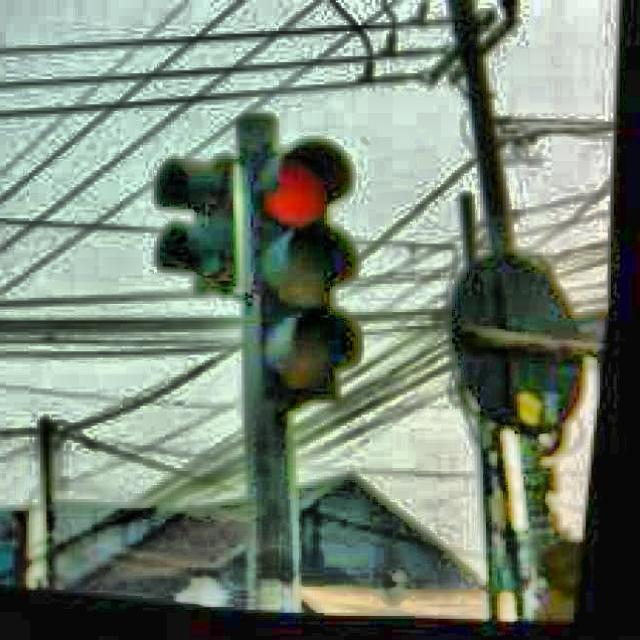red: (250, 130, 359, 397)
